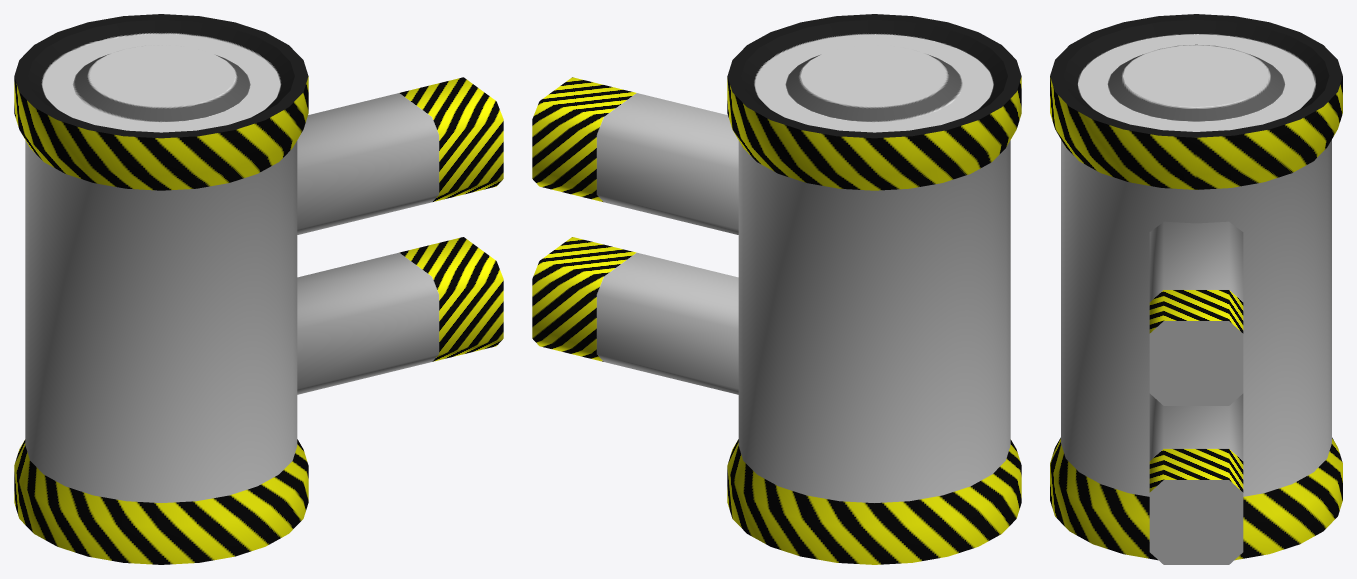
Rendered from radial-adapter2.fbx.
3 views of the same model, side by side, from view 1: azimuth 30°, elevation 25°; view 2: azimuth 150°, elevation 25°; view 3: azimuth 270°, elevation 25° (orthographic).
Visible parts, largest first — view 1: radial-adapter-s1-2-mk2, fixing-bar_003, fixing-bar; view 2: radial-adapter-s1-2-mk2, fixing-bar_003, fixing-bar; view 3: radial-adapter-s1-2-mk2, fixing-bar, fixing-bar_003.
Boxes of the visible parts, box(x1,y1,x2,y2) form: radial-adapter-s1-2-mk2: box(14, 14, 308, 564); fixing-bar_003: box(297, 237, 503, 394); fixing-bar: box(297, 77, 503, 234); radial-adapter-s1-2-mk2: box(727, 14, 1021, 564); fixing-bar_003: box(532, 237, 738, 394); fixing-bar: box(532, 77, 738, 234); radial-adapter-s1-2-mk2: box(1050, 14, 1342, 560); fixing-bar: box(1149, 221, 1243, 405); fixing-bar_003: box(1149, 393, 1243, 564).
Size of what is drawn, in the model's own units: 2.19 by 2 by 1.25.
Materials: 1 (1 with a texture image).
